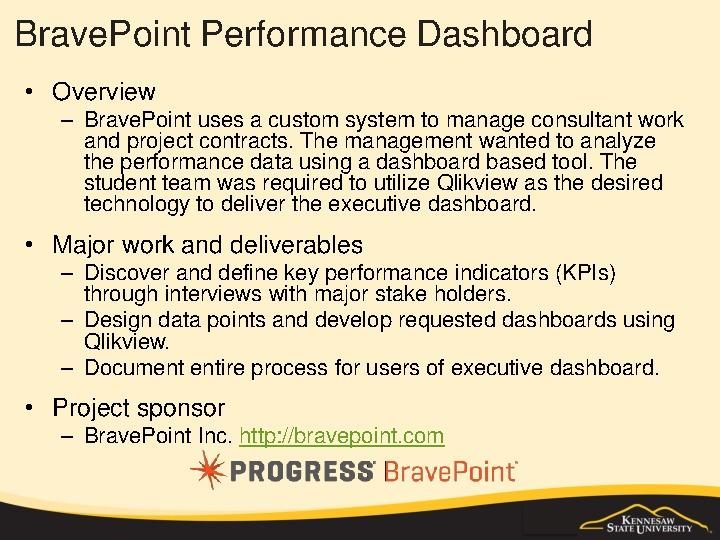paragraph: (52, 261, 708, 390), (47, 107, 708, 220), (57, 426, 480, 457)
subtitle: (46, 225, 367, 262), (42, 389, 235, 422), (49, 79, 172, 106)
title: (12, 6, 605, 67)
